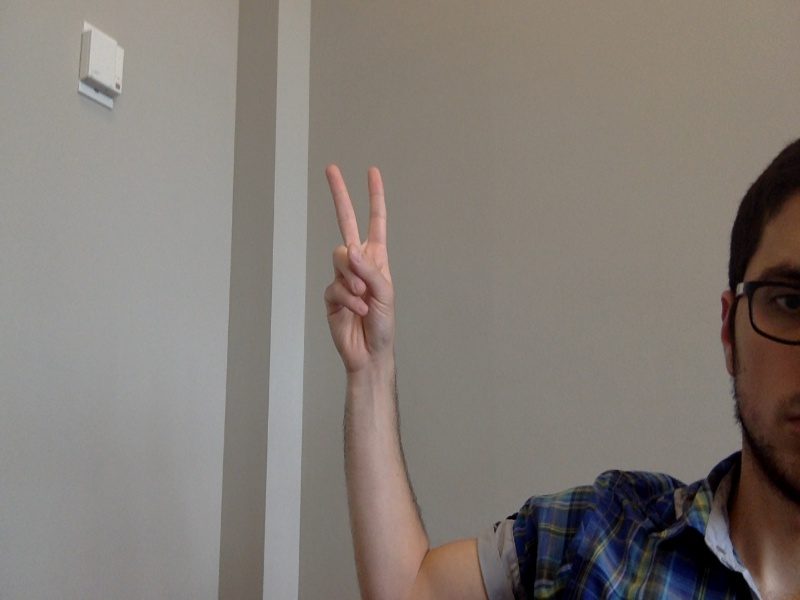2-hand: (319, 163, 400, 374)
